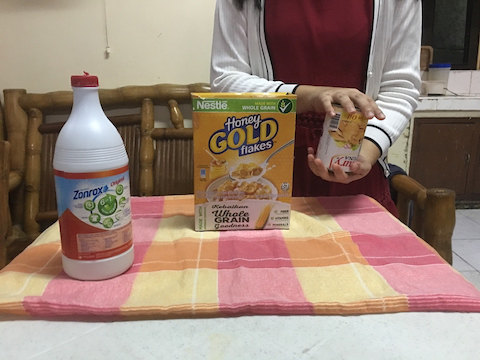bottle: (51, 72, 140, 282)
box: (191, 89, 301, 233)
can: (315, 102, 375, 172)
grab: (306, 148, 371, 185)
